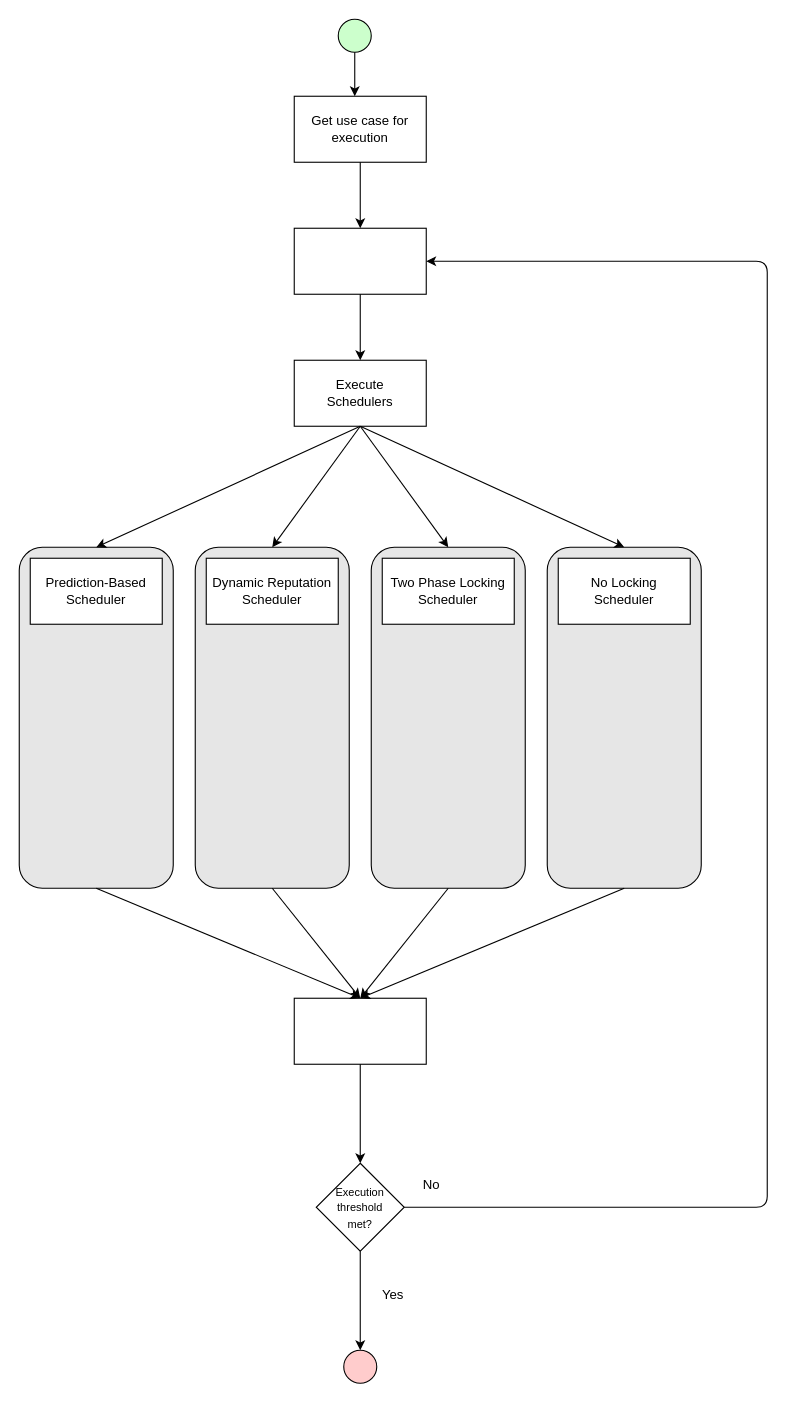
The diagram is 795 pixels wide and 1403 high, and some of its shapes have lost their labels. The centre of each missing label's shape, as x and y in pixels:
Generate users and transactions for execution: [359,260]
Record Results: [359,1030]
